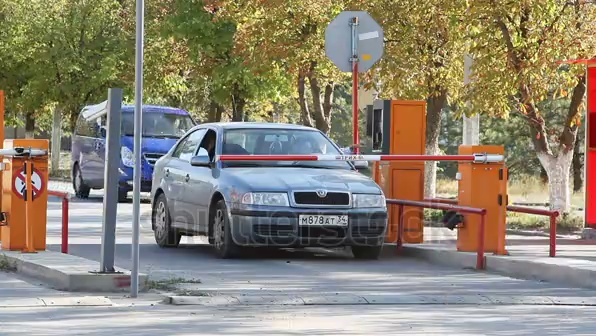licenseplate: (299, 211, 349, 224)
